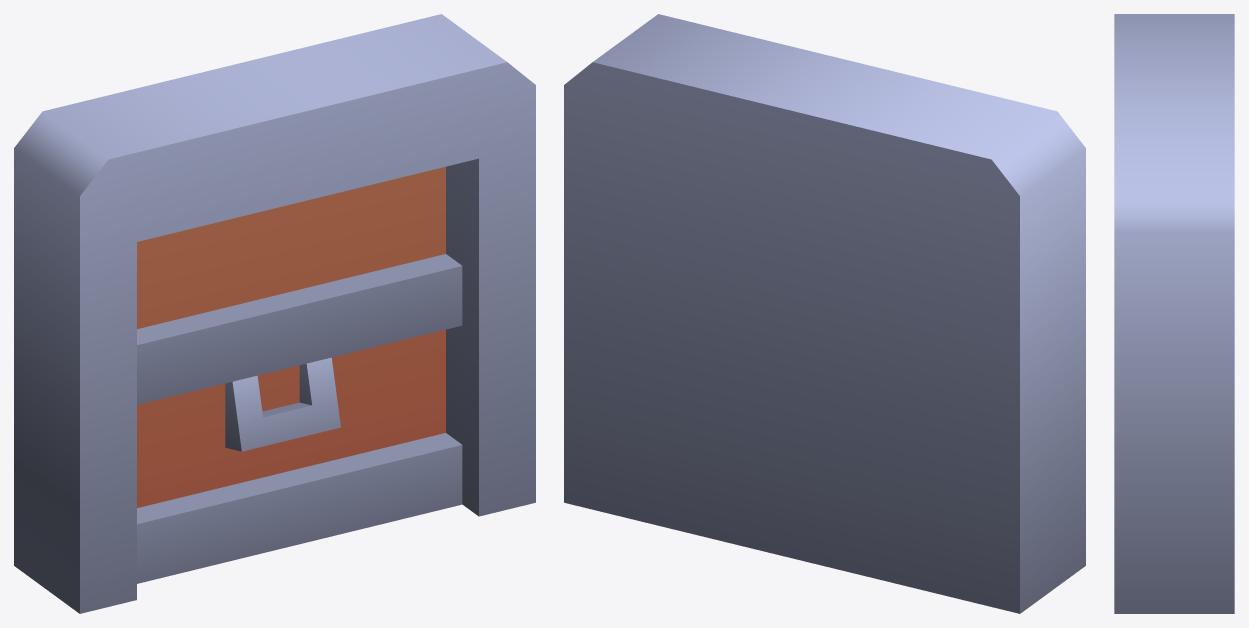
Rendered from gate.obj.
3 views of the same model, side by side, from view 1: azimuth 30°, elevation 25°; view 2: azimuth 150°, elevation 25°; view 3: azimuth 270°, elevation 25° (orthographic). The views are drawn at different scales.
Visible parts, largest first — view 1: door; view 2: door; view 3: door.
Part boxes in pixels (x1,y1,x2,y2): door: [14, 14, 535, 613]; door: [564, 14, 1085, 613]; door: [1114, 14, 1234, 613].
Size of the model in its own units: 0.8 by 0.75 by 0.2.
1 material, 1 textured.
